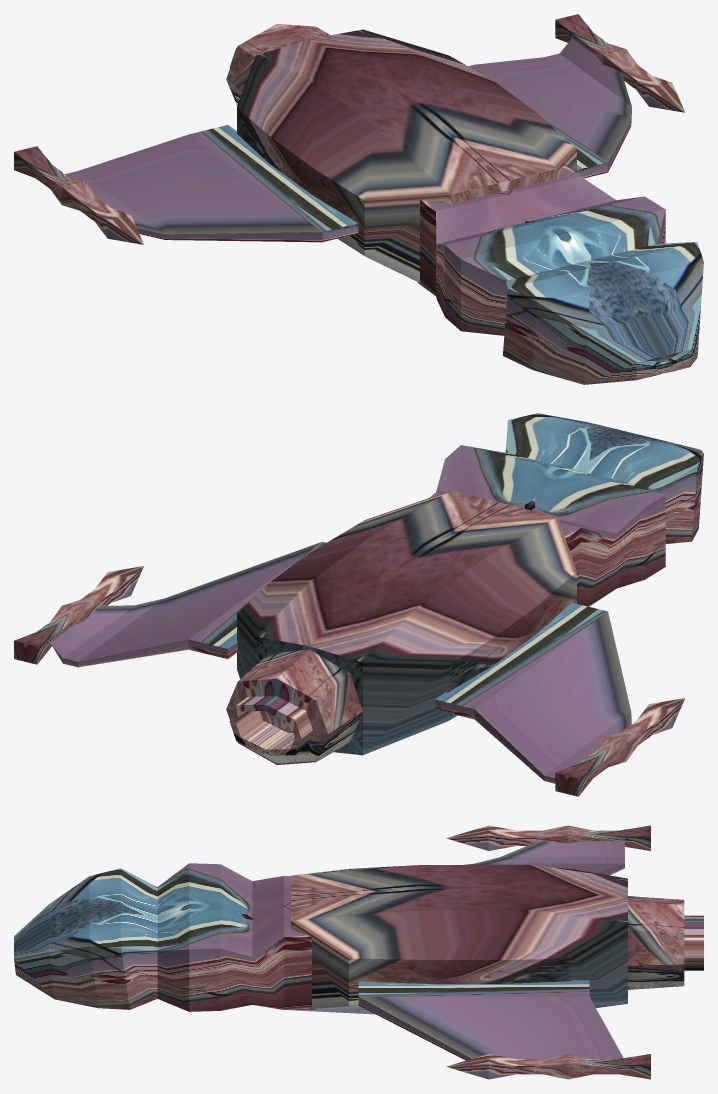
File: m1-ship1.obj
3 renders of one model, top to bottom at view 1: azimuth 30°, elevation 25°; view 2: azimuth 150°, elevation 25°; view 3: azimuth 270°, elevation 25°, orthographic. The views are drawn at different scales.
Visible parts, largest first — view 1: M1_Ship_1_Cube.048; view 2: M1_Ship_1_Cube.048; view 3: M1_Ship_1_Cube.048.
Part boxes in pixels (x1=…): M1_Ship_1_Cube.048: x1=14, y1=14, x2=703, y2=384; M1_Ship_1_Cube.048: x1=14, y1=413, x2=703, y2=796; M1_Ship_1_Cube.048: x1=14, y1=825, x2=703, y2=1079.
Size of the model in its own units: 21.72 by 4.53 by 26.59.
